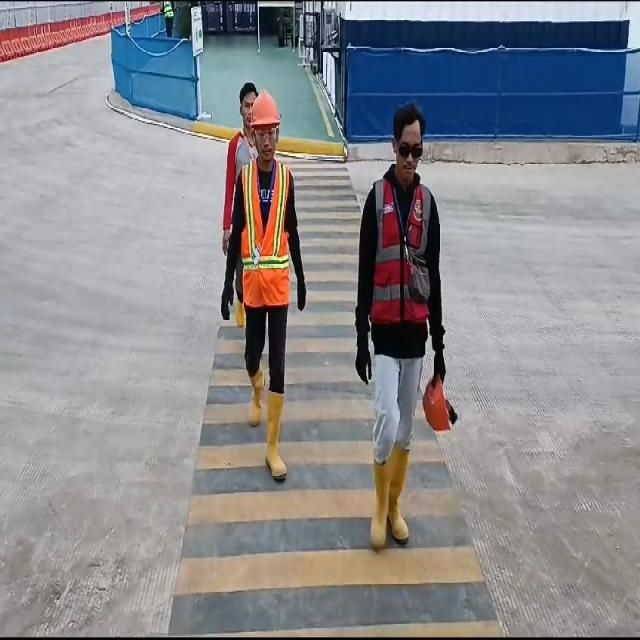gloves: (352, 332, 373, 384), (434, 336, 448, 388), (295, 278, 313, 312), (219, 286, 236, 321)
goggles: (394, 137, 426, 161), (254, 125, 280, 144)
helmet: (248, 92, 280, 129)
safety_vest: (369, 176, 431, 323), (240, 160, 291, 311)
